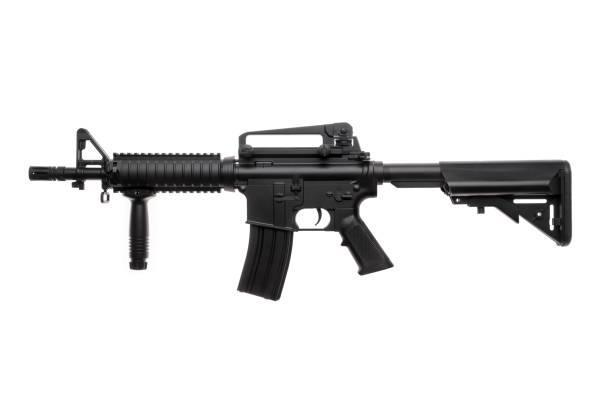larga: (30, 121, 574, 302)
